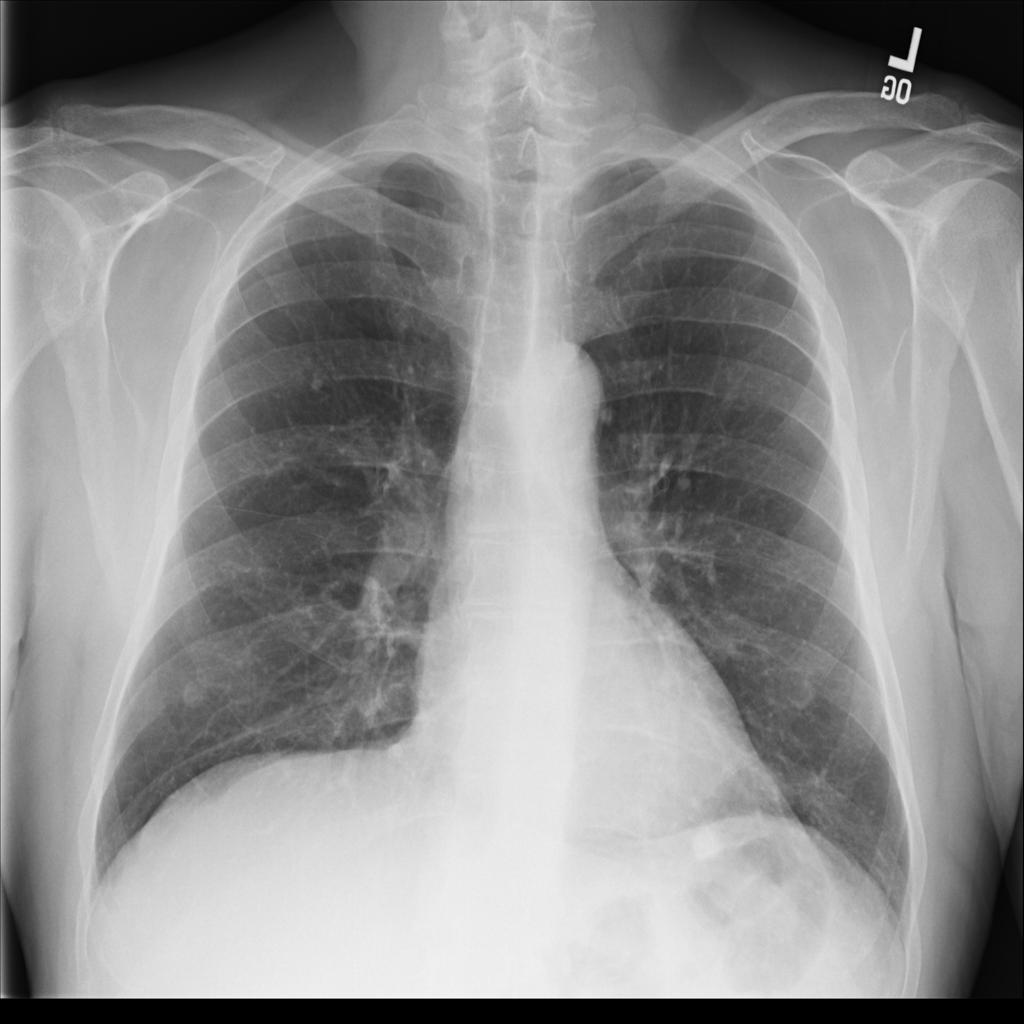nodule: (160, 651, 228, 727), (675, 803, 742, 876), (290, 347, 336, 405)
